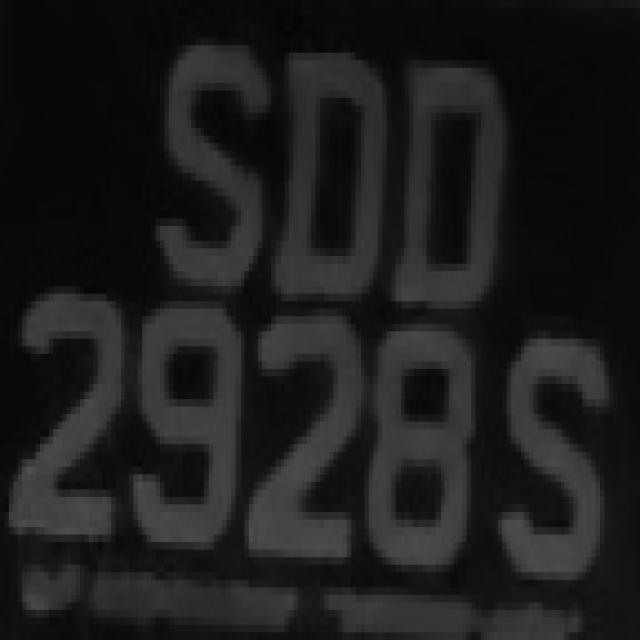2: (240, 301, 360, 587), (14, 279, 124, 572)
8: (346, 309, 484, 572)
9: (129, 324, 249, 572)
D: (391, 30, 516, 309), (276, 38, 391, 324)
S: (147, 15, 271, 316), (498, 316, 609, 595)
